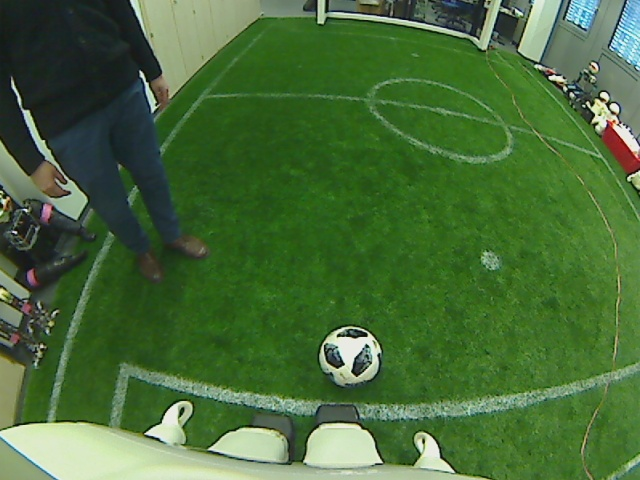ball: (317, 327, 381, 384)
